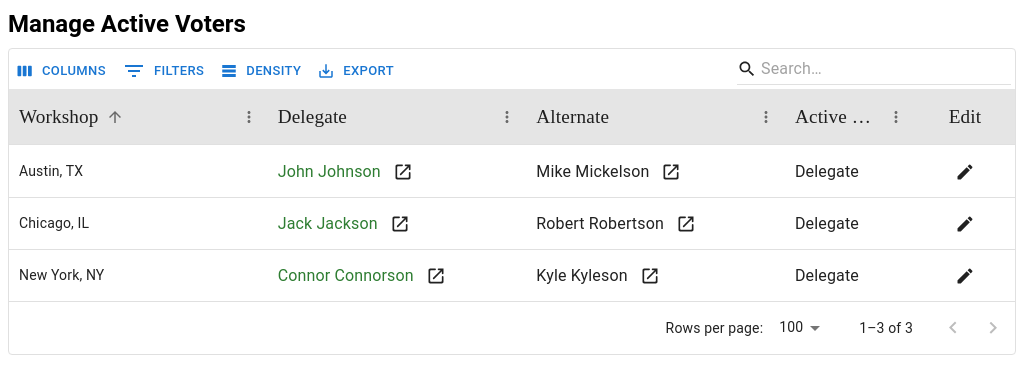
Successfully alerts when non-organizer attempts to update active voter
This screenshot has width=1024, height=372.
Click the menu item with test id "edit-active-voter-1": (965, 172) [950,156,980,186]
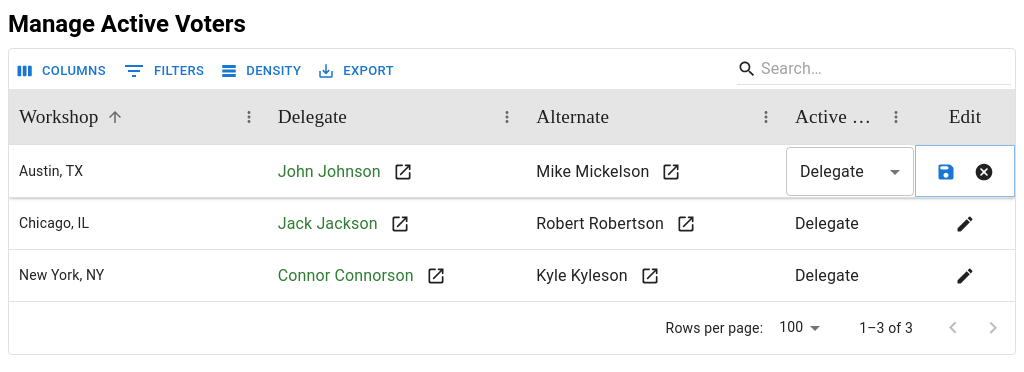
Click the menu item with test id "save-active-voter-1": (946, 172) [931,156,961,186]
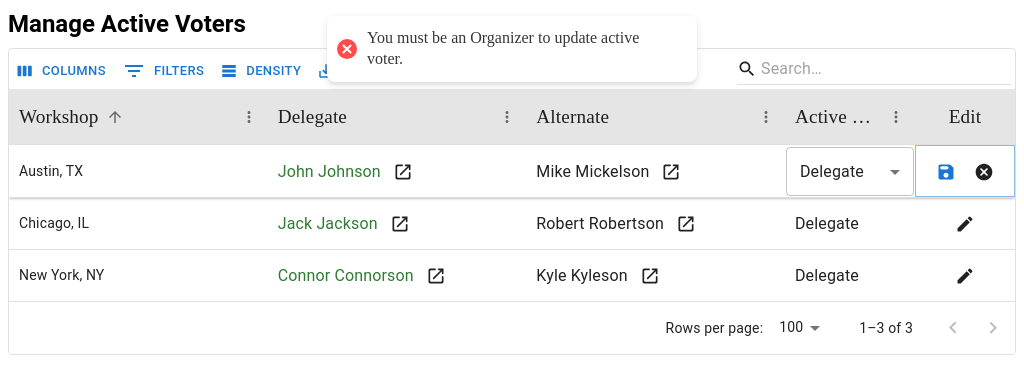
Expected: the text "You must be an Organizer to update active voter." is shown, [367,28,677,70]
